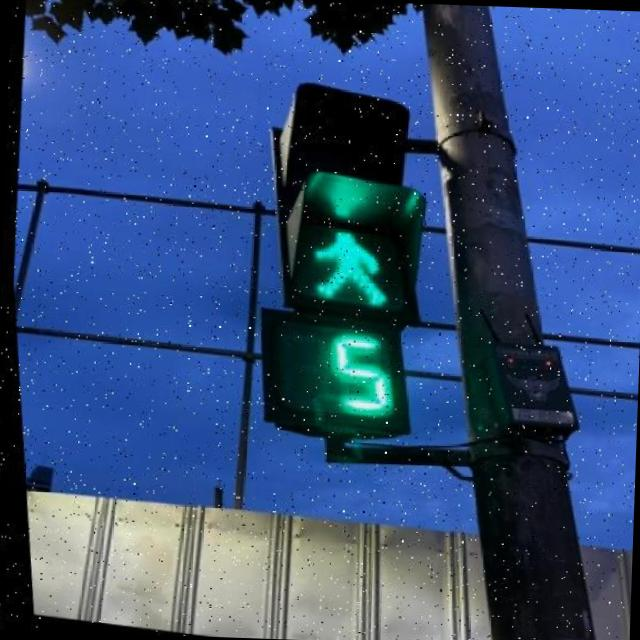green_light: (276, 220, 418, 431)
